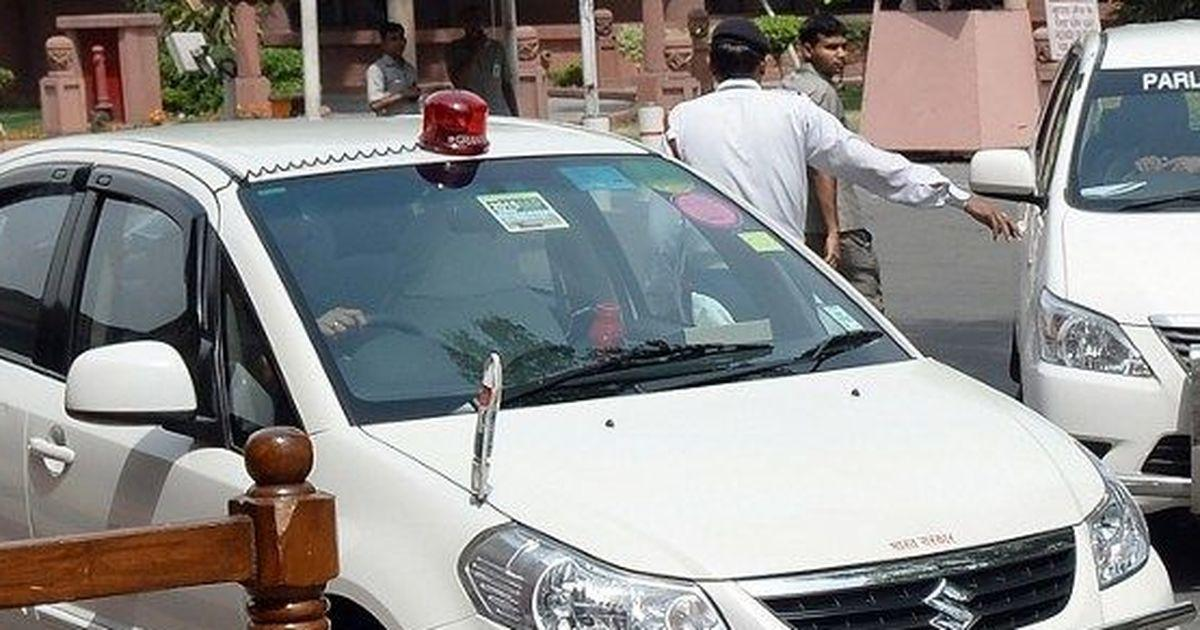Emergency-Vehicles: (4, 89, 1199, 630)
